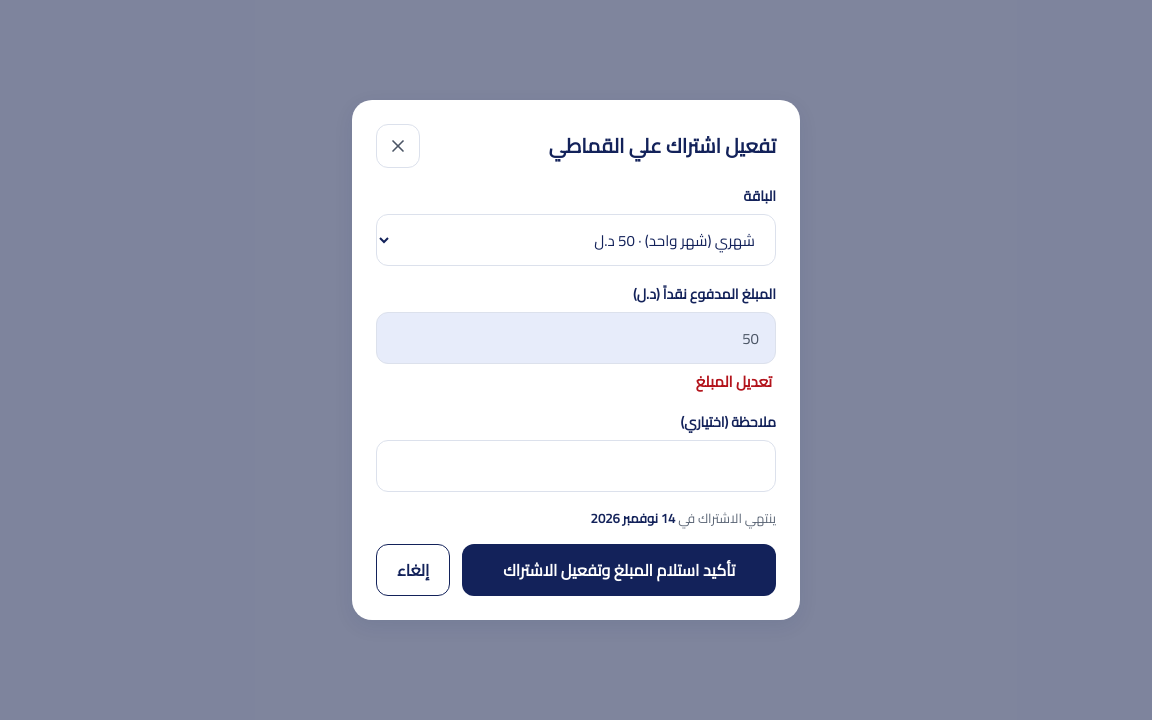
Test: ActivateDialog › shows plan_not_found in Arabic and keeps the dialog open
expect the number field labelled "المبلغ المدفوع نقداً (د.ل)" holds "50": met, box [376,312,776,364]
Click the button "تأكيد استلام المبلغ وتفعيل الاشتراك" at (619, 570), box [462,544,776,596]
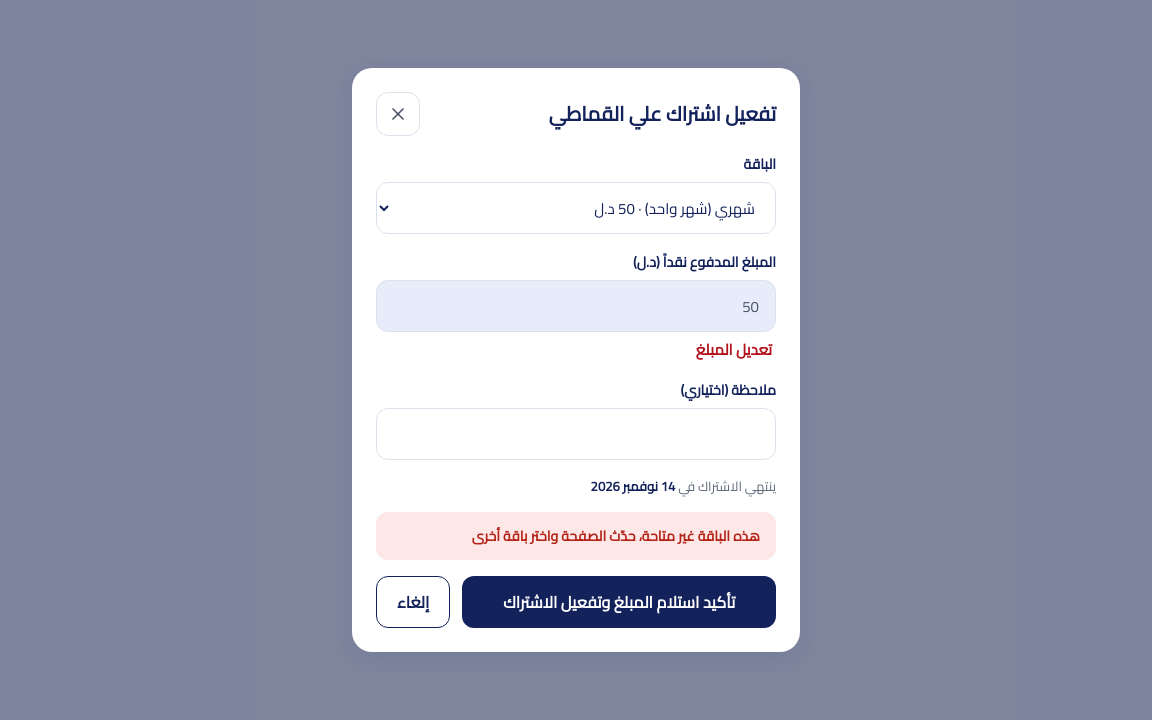
expect the message reads "هذه الباقة غير متاحة، حدّث الصفحة واختر باقة أخرى": met, box [472,523,760,549]
